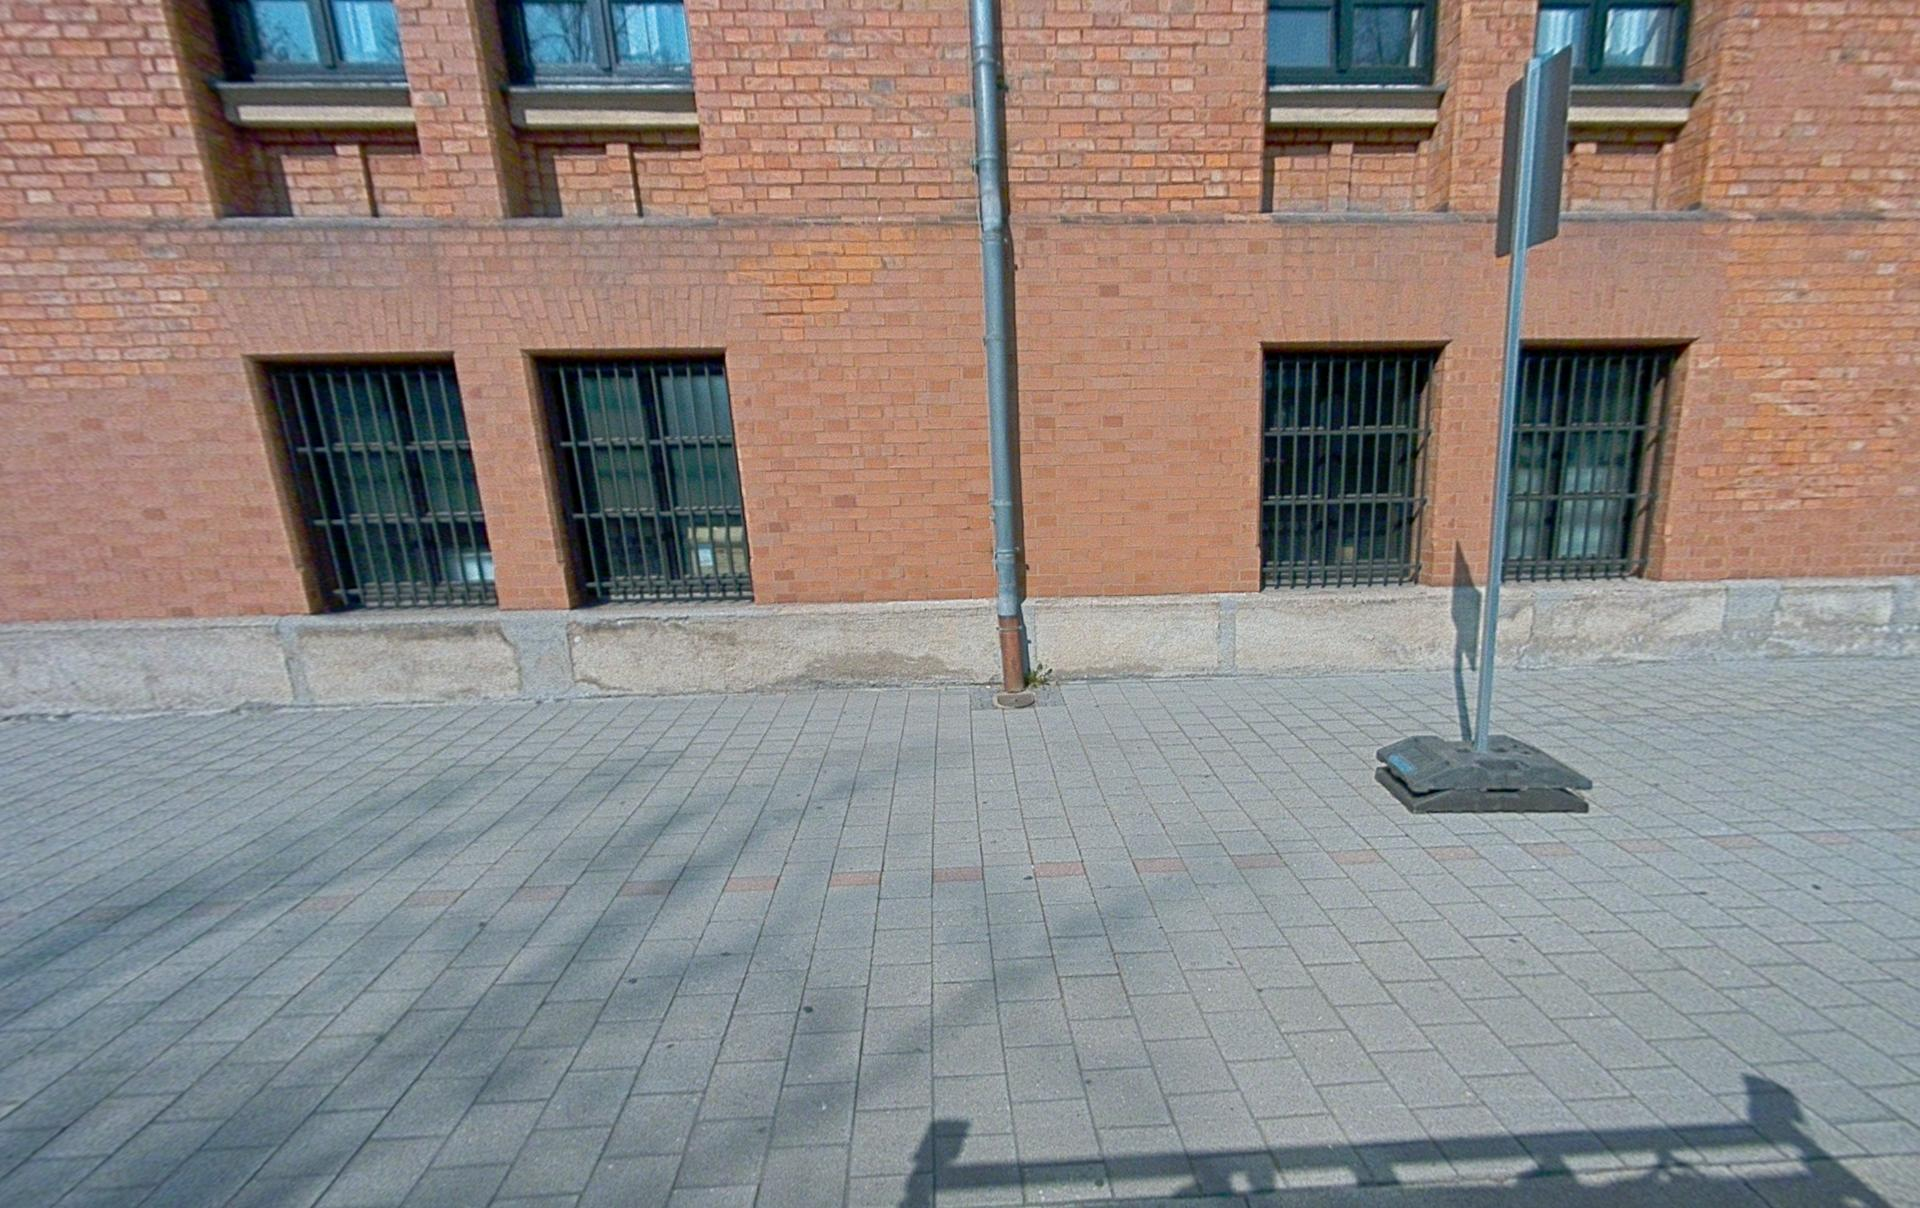traffic sign: (1494, 45, 1574, 257)
